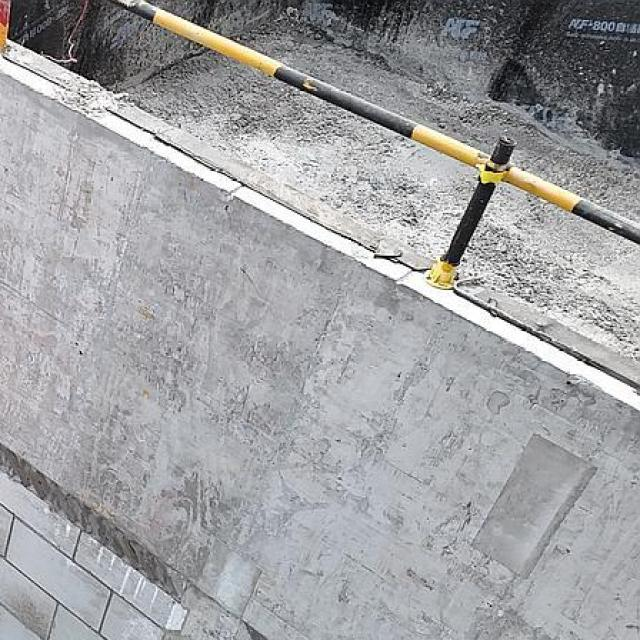edge_guardrail: (108, 0, 640, 287)
